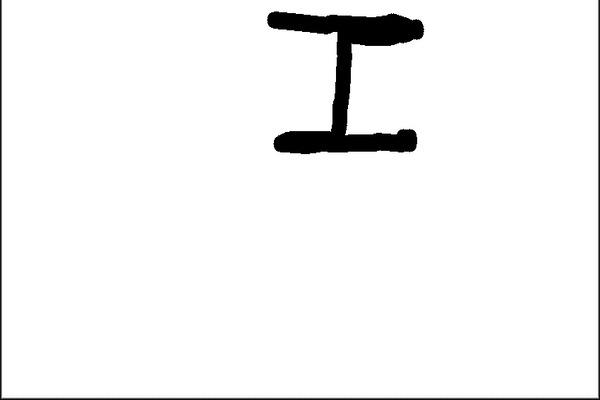i: (258, 7, 427, 162)
